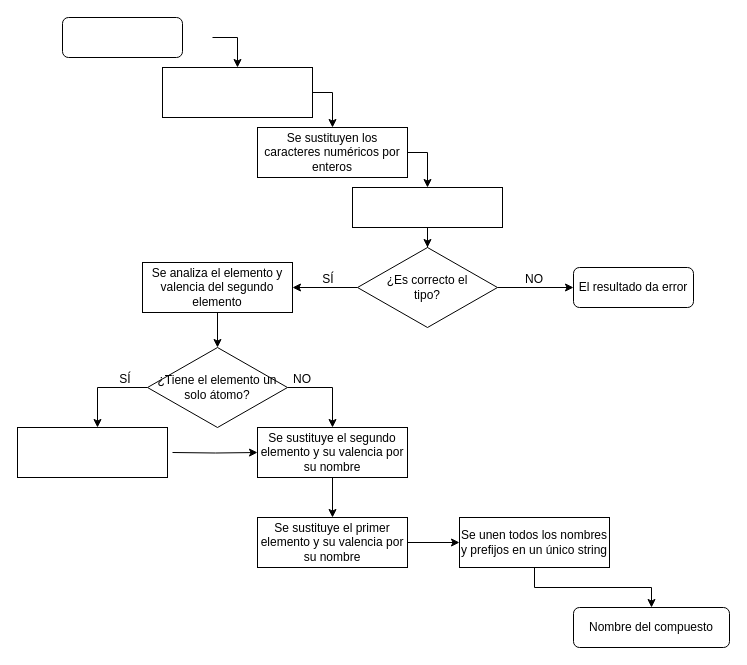
This 747x665 diagram has some shape labels left out. Here are the shapes that lost their labels. From the top down, the centre of each, then its label:
At [122,37]: "Incio".
At [237,92]: "Se divide el compuesto en caracteres".
At [427,207]: "Se invierten los elementos".
At [92,452]: "Se añade el prefijo 'mon-' o 'mono-'".
